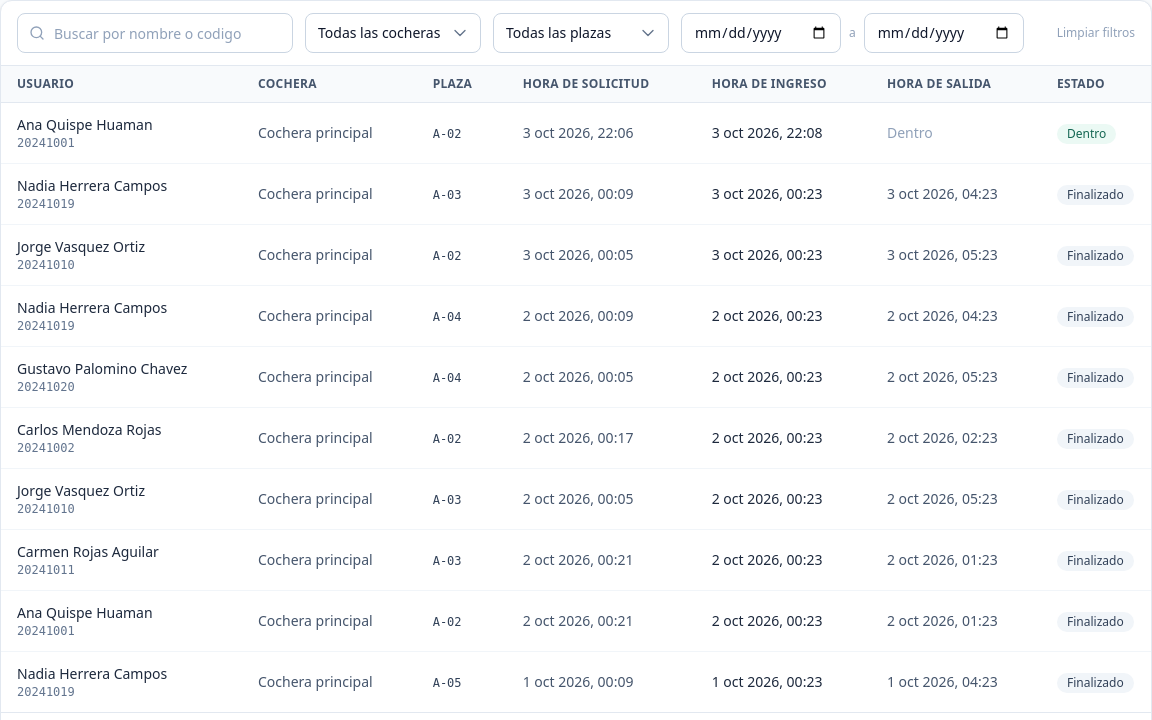
Test case: AccesosPage (RFA07) › busca por nombre de usuario sin distincion de mayusculas
In the search field named "Buscar por usuario": (155, 33) [17,13,293,53], type "maria"
(page scrolled)
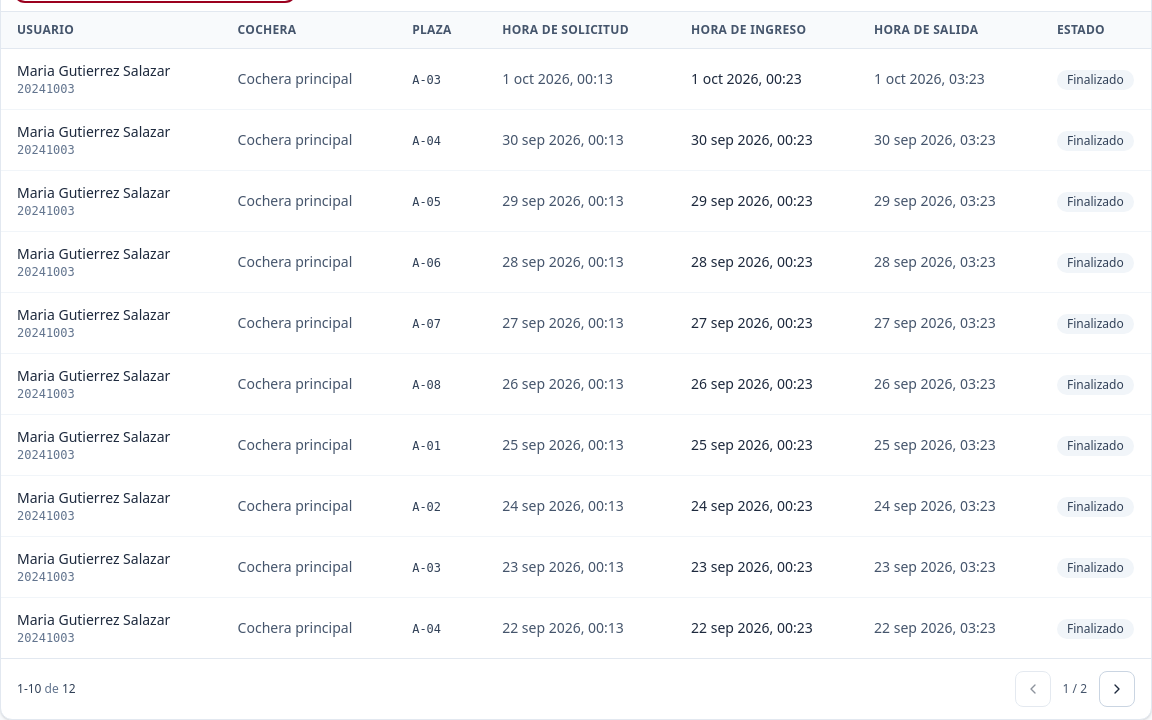
Expected: the button "Ana Quispe Huaman" is gone
